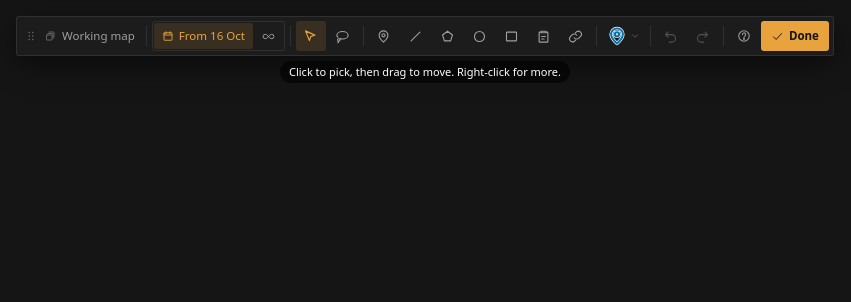
Test: what the bar dates an edit to › dates from today as it opens, and a day picked dates the edits from it, never after today
Step 1. Click the button "From 16 Oct" → x=203, y=36, box [154,23,253,49]
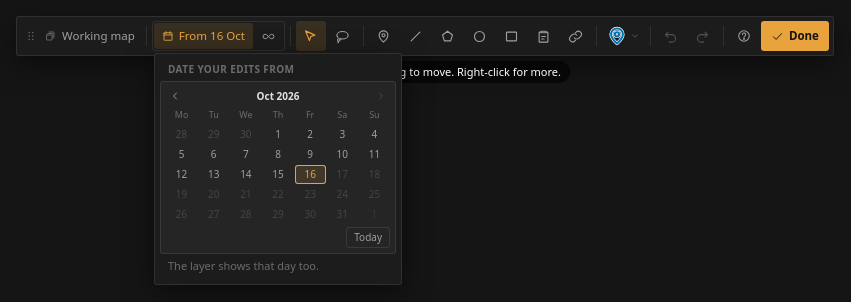
Step 2. Click the 4th button with class "day" → x=278, y=134, box [262,124,294,144]
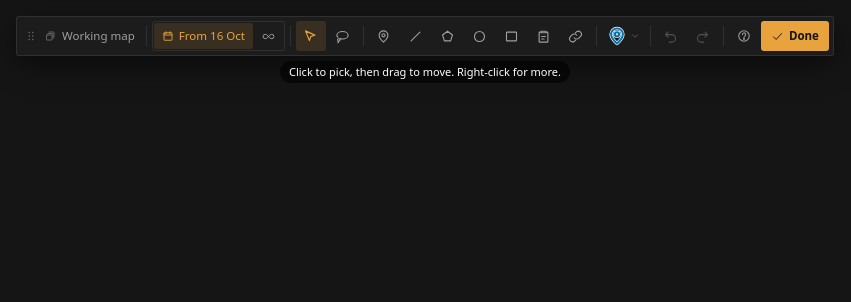
Check: the menu with class "float-menu" is gone
